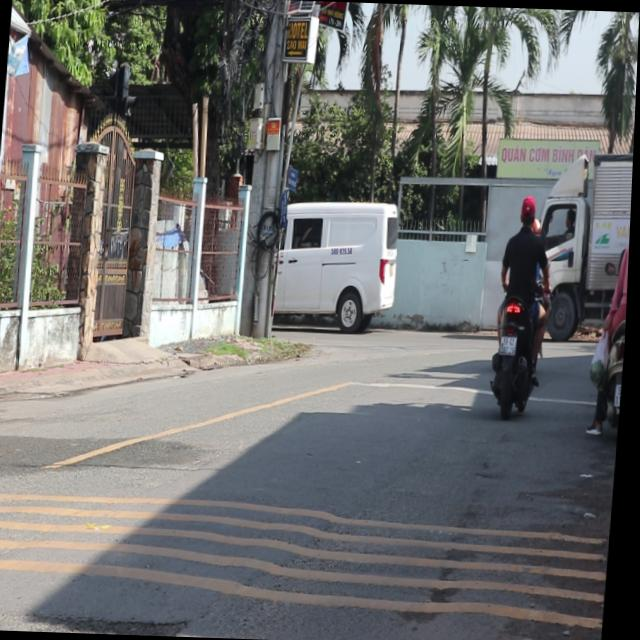licenseplate: (486, 190, 558, 416), (586, 201, 633, 440)
motorcyclist: (518, 192, 538, 227)
nohelmet: (501, 334, 519, 353), (616, 382, 625, 403)
